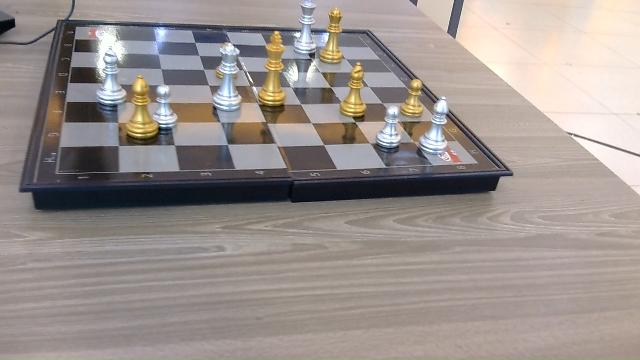black_bishop: (124, 75, 157, 140), (339, 63, 369, 117)
black_king: (258, 30, 286, 106)
black_pawn: (401, 78, 426, 117)
black_queen: (321, 7, 346, 63)
white_bishop: (419, 97, 451, 155), (95, 48, 125, 107)
white_king: (294, 0, 317, 53)
white_pawn: (376, 104, 402, 149), (155, 84, 177, 130)
white_queen: (212, 40, 242, 111)
